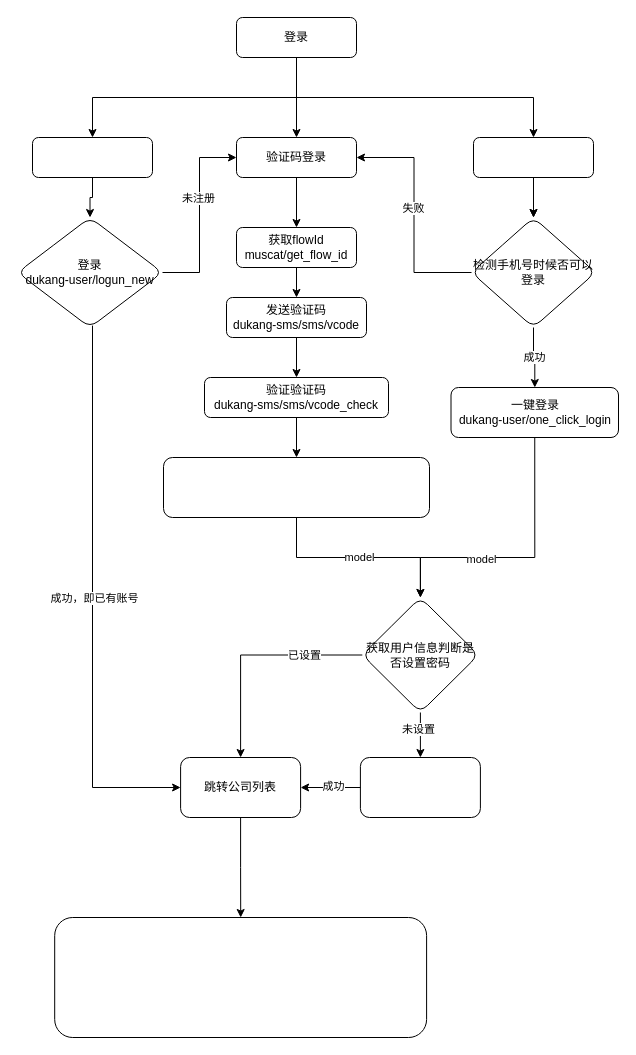
The diagram is 636 pixels wide and 1055 high, and some of its shapes have lost their labels. Here are the shapes that lost their labels. From the top down, the centre of each, then its label:
point (92, 157): 密码登录
point (533, 157): 一键登录
point (296, 487): 获取token dukang-user/users/vcode_check_scuccess/token
point (419, 787): 设置密码
point (240, 977): 公司列表还有很多逻辑 比如 没有公司（创建公司）、一个公司（审核中）、一个公司（未激活）、一个公司（已激活）、多个公司
